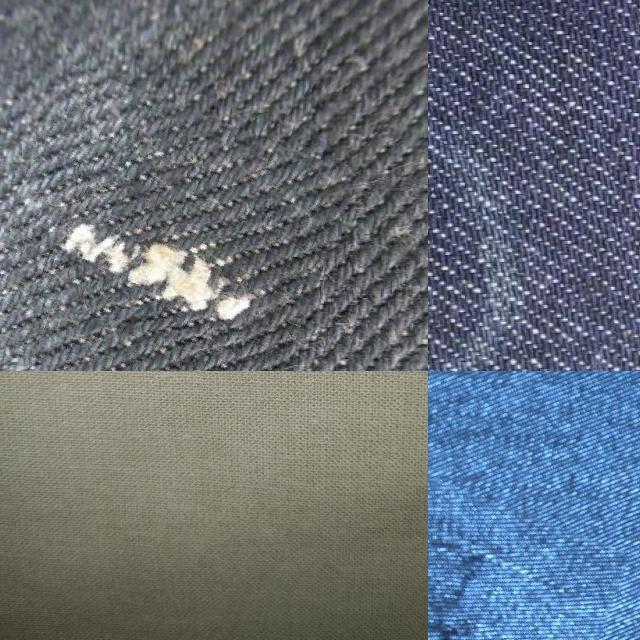stains: (0, 86, 337, 371), (428, 453, 603, 640)
